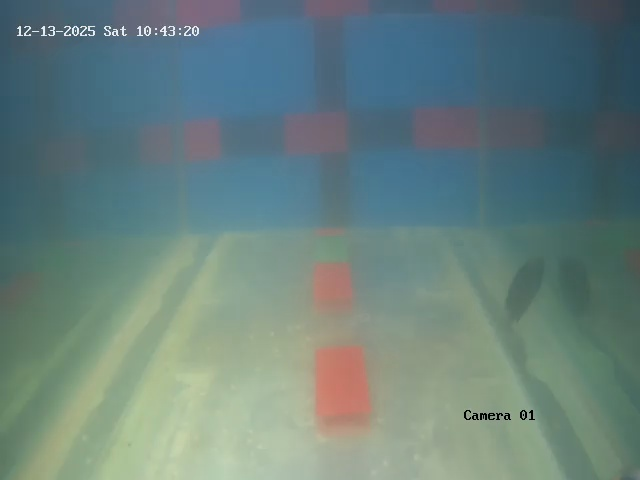fish: (502, 254, 547, 325)
